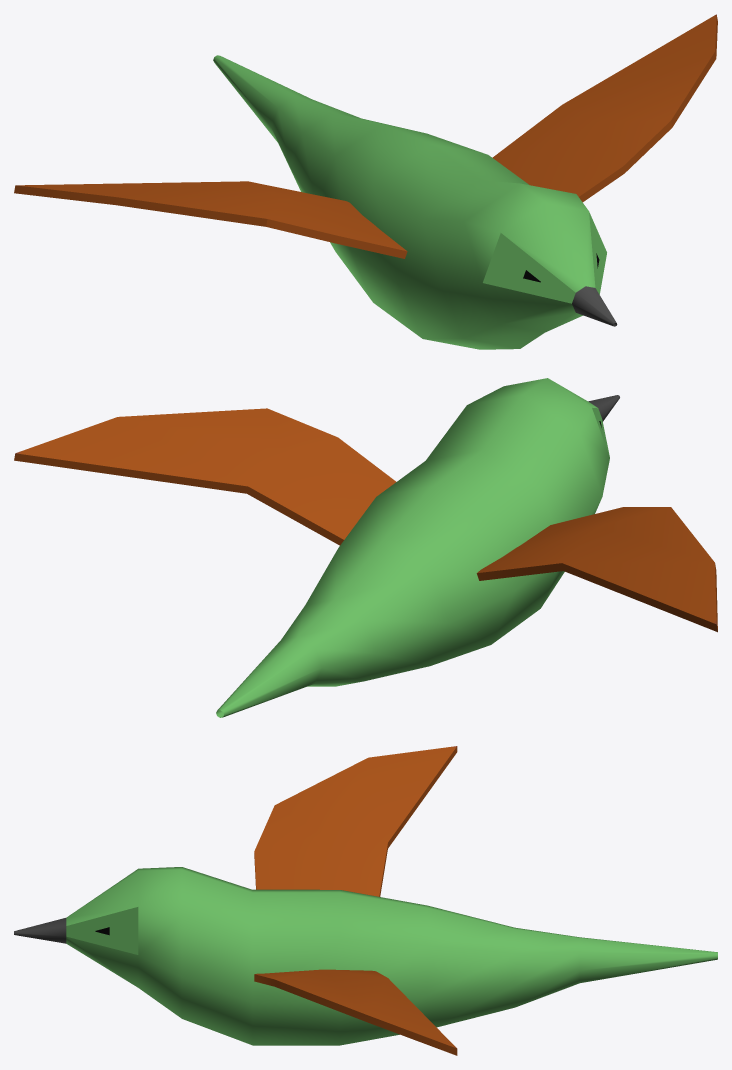
File: Bird_2.FBX
3 views of the same model, one above another, from view 1: azimuth 30°, elevation 25°; view 2: azimuth 150°, elevation 25°; view 3: azimuth 270°, elevation 25° (orthographic). The views are drawn at different scales.
Parts seen in each view (by area): view 1: Bird_2; view 2: Bird_2; view 3: Bird_2.
Boxes of the visible parts, box(x1,y1,x2,y2) form: Bird_2: box(14, 14, 717, 349); Bird_2: box(14, 378, 717, 717); Bird_2: box(14, 746, 717, 1055).
Size of the model in its own units: 0.2937 by 0.078 by 0.2876.
1 material, 1 textured.
